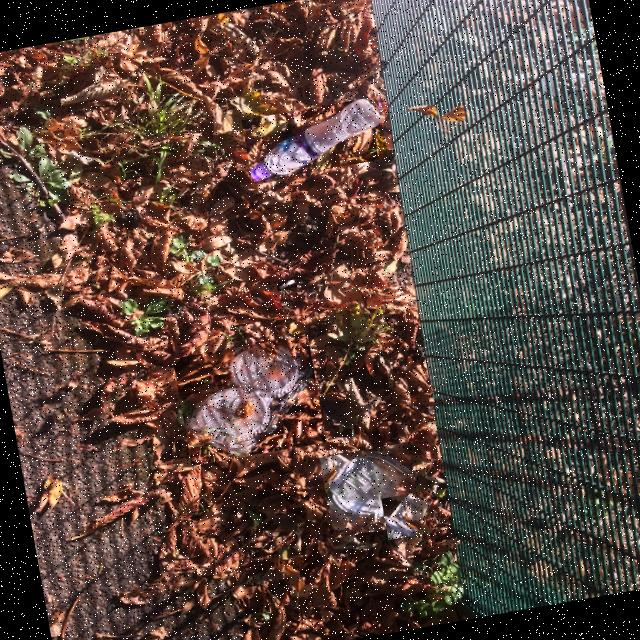Cigarette: (277, 280, 296, 290)
Clear plastic bottle: (251, 98, 382, 181)
Disposable food container: (185, 346, 314, 456), (327, 450, 417, 524)
Normal paper: (385, 493, 430, 535)
Plastic bottle cap: (359, 97, 380, 115)
